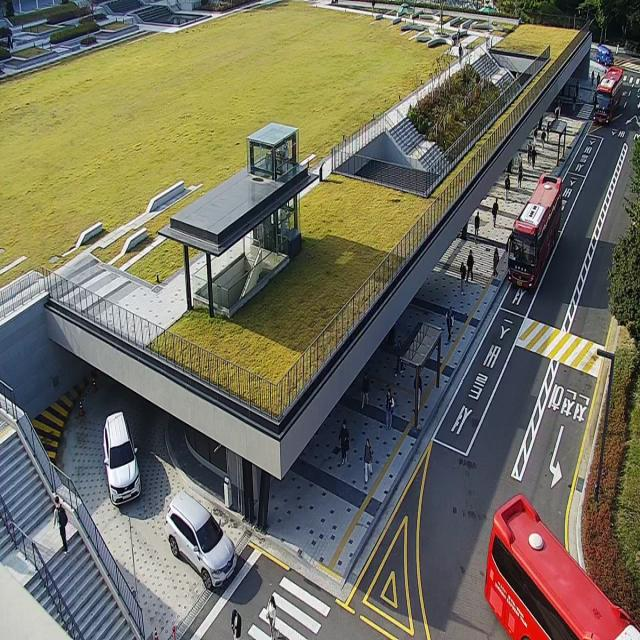queue: (413, 329, 442, 431)
